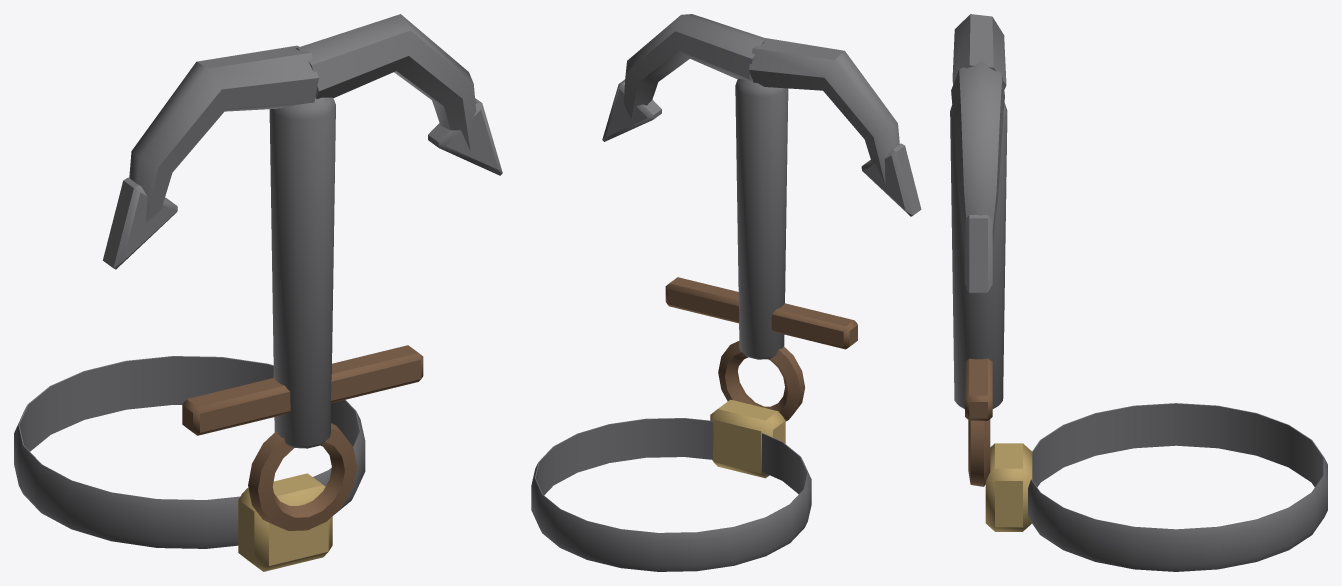
File: Kit_Active_Anchor.glb
3 views of the same model, side by side, from view 1: azimuth 30°, elevation 25°; view 2: azimuth 150°, elevation 25°; view 3: azimuth 270°, elevation 25° (orthographic). The views are drawn at different scales.
Parts seen in each view (by area): view 1: Kit_Active_Anchor; view 2: Kit_Active_Anchor; view 3: Kit_Active_Anchor.
Boxes of the visible parts, bbox=[...] form: Kit_Active_Anchor: bbox=[14, 14, 502, 571]; Kit_Active_Anchor: bbox=[531, 14, 921, 571]; Kit_Active_Anchor: bbox=[950, 14, 1327, 571].
Bounding box in the file's own units: 0.1689 × 0.2204 × 0.1627.
